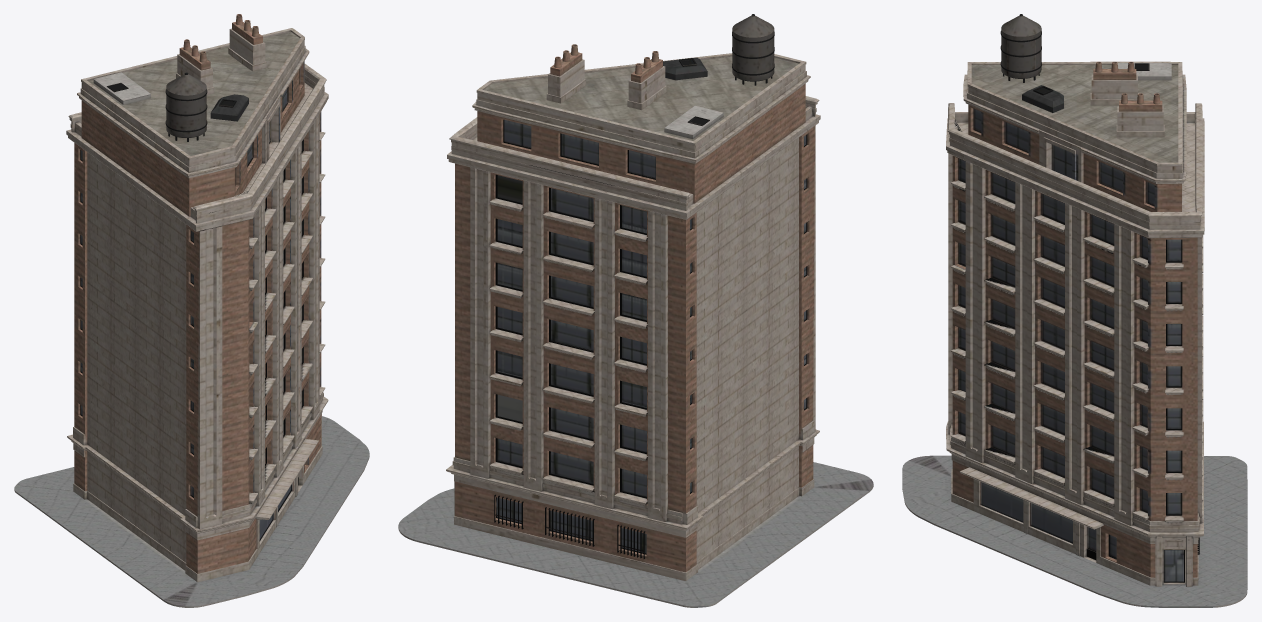
File: bld22_09.glb
3 views of the same model, side by side, from view 1: azimuth 30°, elevation 25°; view 2: azimuth 150°, elevation 25°; view 3: azimuth 270°, elevation 25° (orthographic). The views are drawn at different scales.
Visible parts, largest first — view 1: bld22_09; view 2: bld22_09; view 3: bld22_09.
Boxes of the visible parts, x1=… form: bld22_09: x1=14, y1=14, x2=369, y2=607; bld22_09: x1=398, y1=14, x2=873, y2=607; bld22_09: x1=902, y1=14, x2=1247, y2=607.
Bounding box in the file's own units: 43.95 × 64.61 × 42.53.
Materials: 1 (1 with a texture image).
